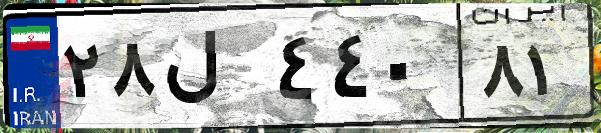0: (385, 28, 445, 110)
1: (525, 38, 570, 115)
2: (57, 26, 110, 100)
4: (270, 28, 330, 110), (330, 28, 385, 110)
8: (475, 38, 525, 113), (110, 28, 158, 98)
ل: (158, 20, 270, 120)
